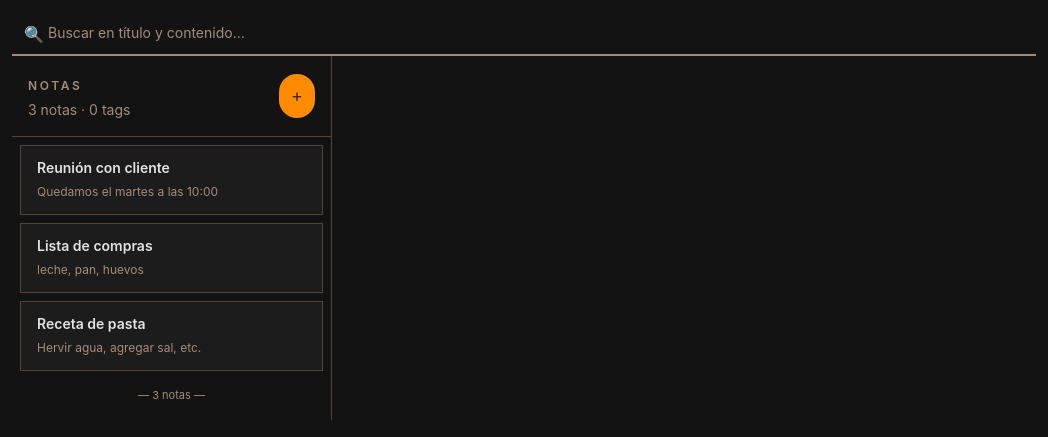
it: MobileSearchPage (PR2 — shell-redesign-v1) › shows an empty hint when no note matches
Type "xyz123-no-match" into the search field named "buscar notas".
click(524, 34); type("xyz123-no-match")  # box [12, 12, 1036, 56]
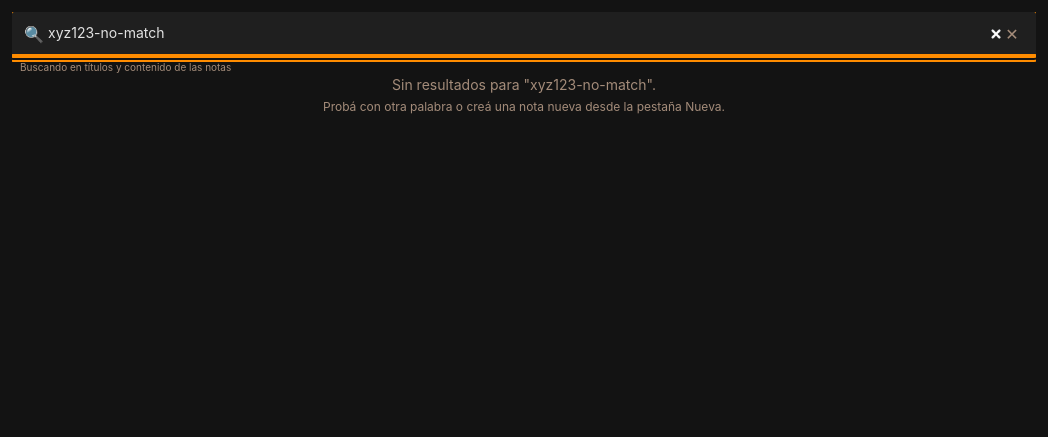
Expected: the button "Reunión con cliente" is gone
Expected: the button "Lista de compras" is gone
Expected: the button "Receta de pasta" is gone
